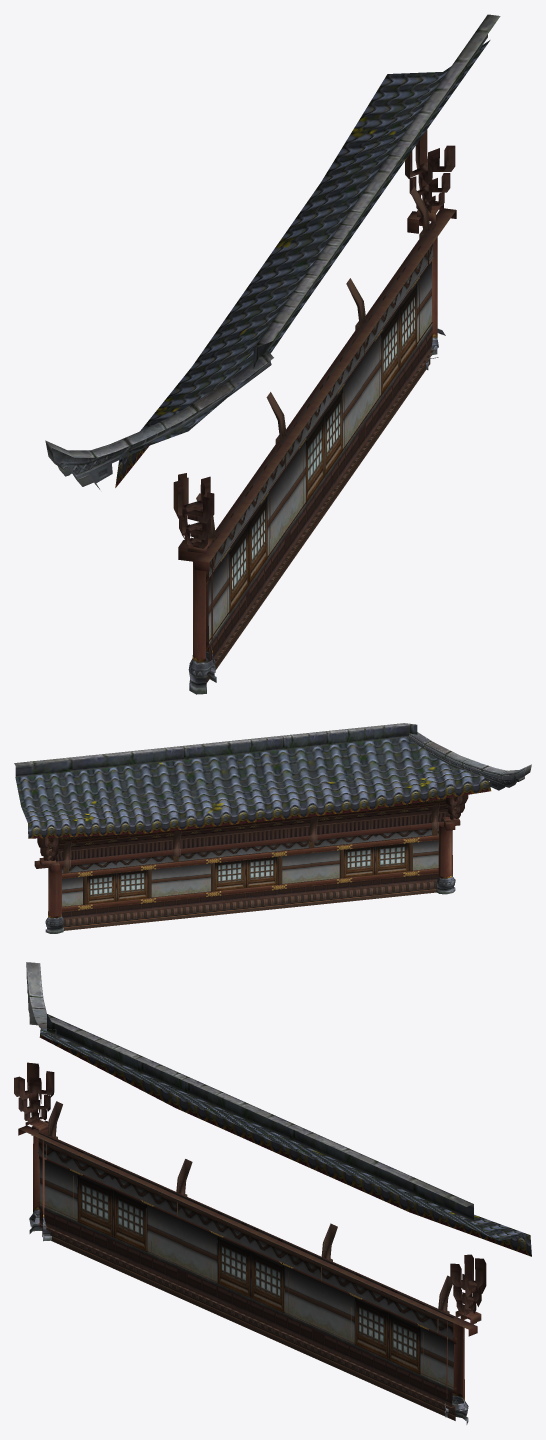
Rendered from S2_Build_XSC059_L2.FBX.
3 renders of one model, top to bottom at view 1: azimuth 30°, elevation 25°; view 2: azimuth 150°, elevation 25°; view 3: azimuth 270°, elevation 25°, orthographic. The views are drawn at different scales.
Parts seen in each view (by area): view 1: S2_Build_XSC059_L2; view 2: S2_Build_XSC059_L2; view 3: S2_Build_XSC059_L2.
Boxes of the visible parts, bbox=[...] form: S2_Build_XSC059_L2: bbox=[45, 14, 500, 694]; S2_Build_XSC059_L2: bbox=[14, 723, 531, 933]; S2_Build_XSC059_L2: bbox=[14, 962, 531, 1424].
Size of the model in its own units: 15219 by 6351 by 12264.
